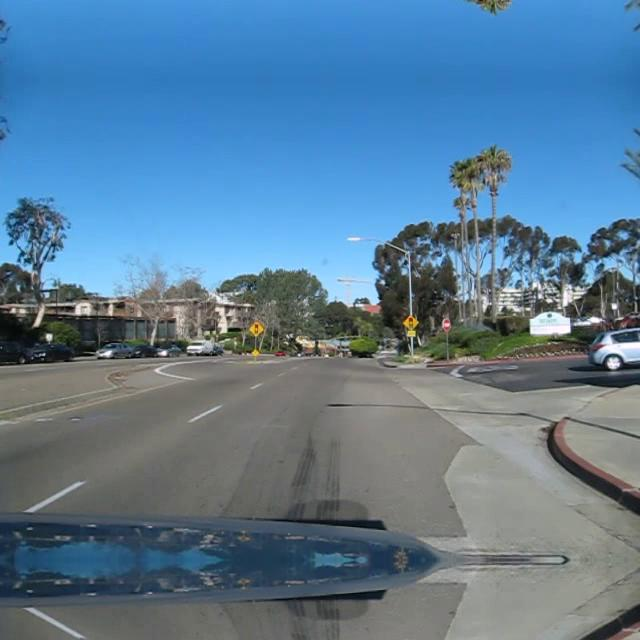signalAhead: (401, 313, 419, 331), (246, 321, 264, 337)
stop: (441, 317, 451, 331)
